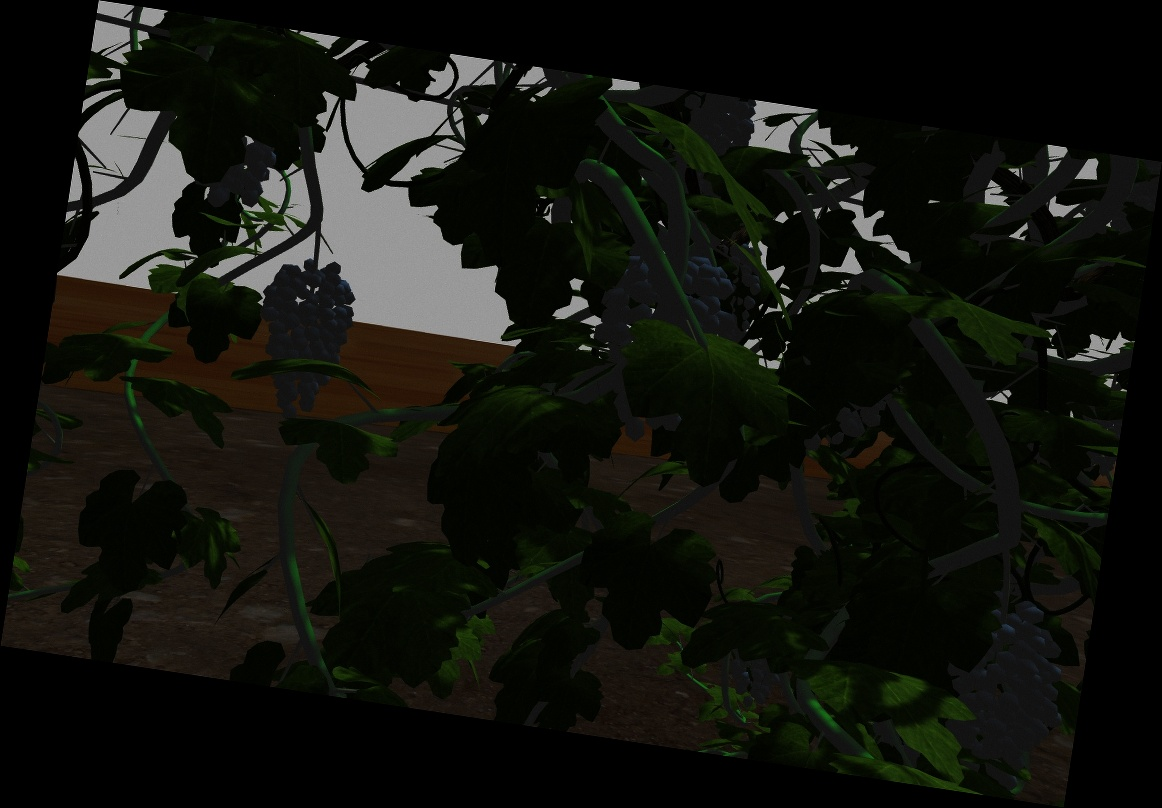grape: (598, 254, 721, 432), (948, 601, 1064, 787), (258, 261, 350, 420), (199, 143, 274, 209)
